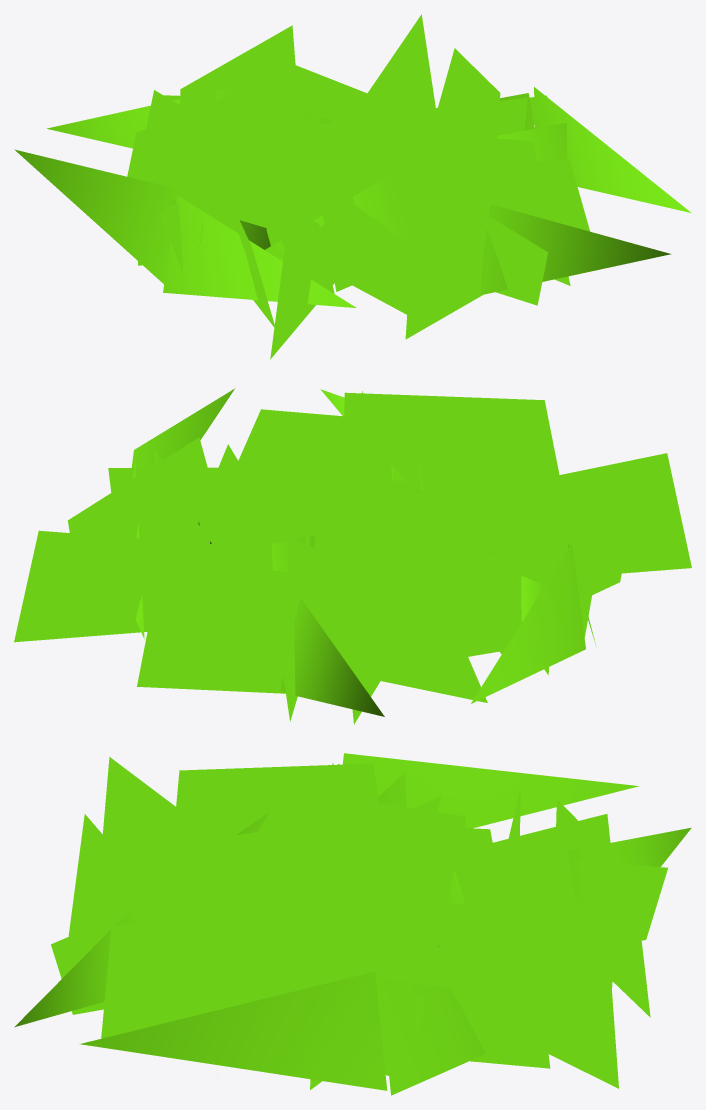
File: GrassLowerTris.fbx
3 renders of one model, top to bottom at view 1: azimuth 30°, elevation 25°; view 2: azimuth 150°, elevation 25°; view 3: azimuth 270°, elevation 25°, orthographic. The views are drawn at different scales.
Visible parts, largest first — view 1: Grass_LOD0; view 2: Grass_LOD0; view 3: Grass_LOD0.
Part boxes in pixels (bbox=[...]): Grass_LOD0: bbox=[14, 14, 690, 359]; Grass_LOD0: bbox=[14, 388, 691, 724]; Grass_LOD0: bbox=[14, 753, 691, 1095].
Size of the model in its own units: 194 by 49.16 by 216.
